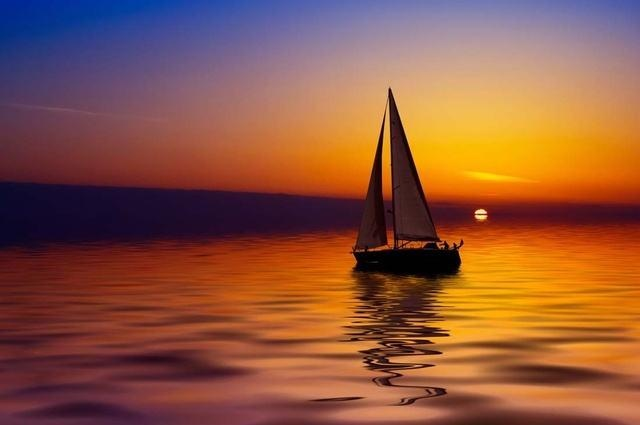fanchuan: (347, 86, 465, 273)
